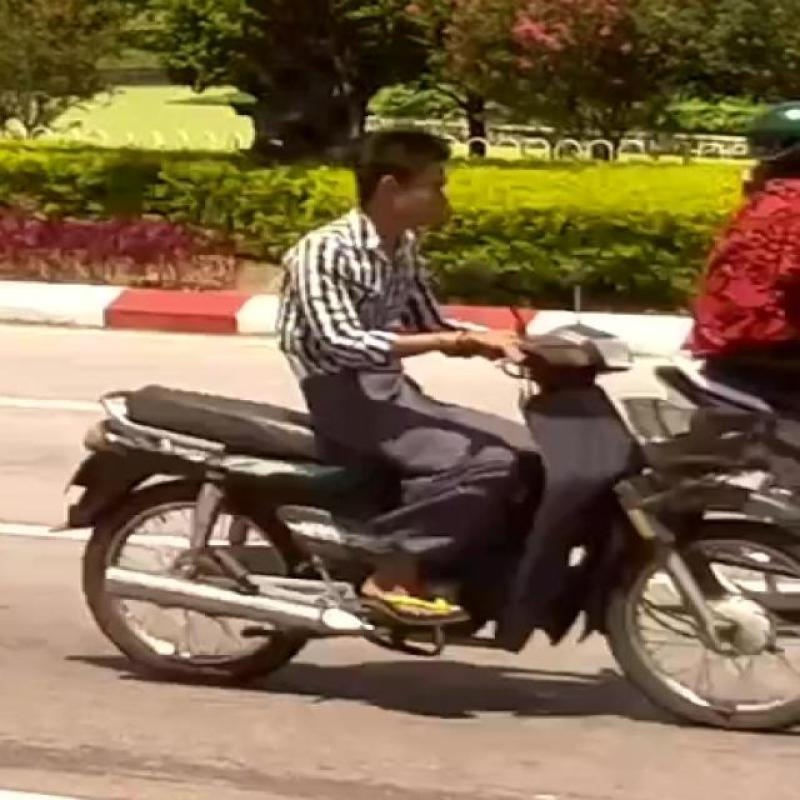nohelmet: (328, 92, 466, 246)
